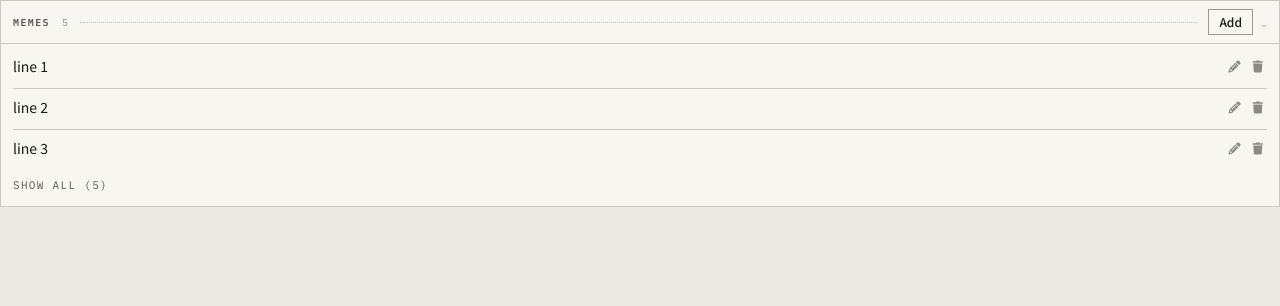
Test case: MemeSection › shows the first three memes and folds the rest
The width and height of the screenshot is (1280, 306).
expect the number of buttons named "Edit" is 3: met, box x1=1224 y1=58 x2=1244 y2=74; x1=1224 y1=99 x2=1244 y2=115; x1=1224 y1=140 x2=1244 y2=156
What coordinates should you click on to do the following:
click the button "Show all (5)"
I would click on:
 (60, 185)
Its box is x1=13 y1=177 x2=108 y2=194.
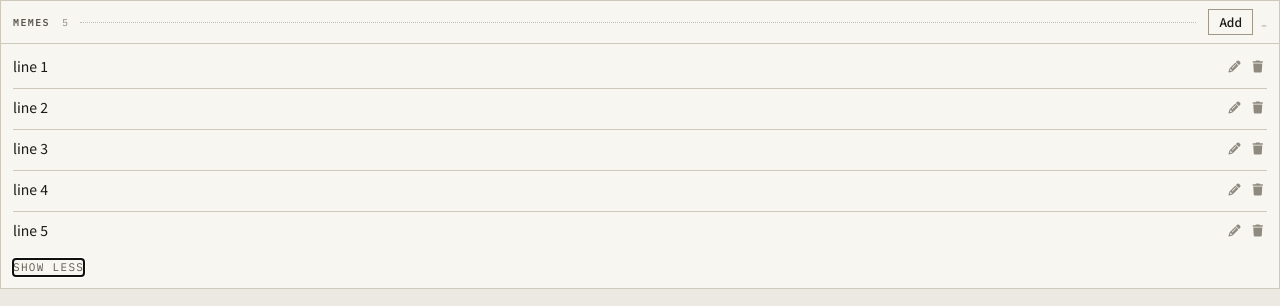
expect the number of buttons named "Edit" is 5: met, box x1=1224 y1=58 x2=1244 y2=74; x1=1224 y1=99 x2=1244 y2=115; x1=1224 y1=140 x2=1244 y2=156; x1=1224 y1=181 x2=1244 y2=197; x1=1224 y1=222 x2=1244 y2=238
